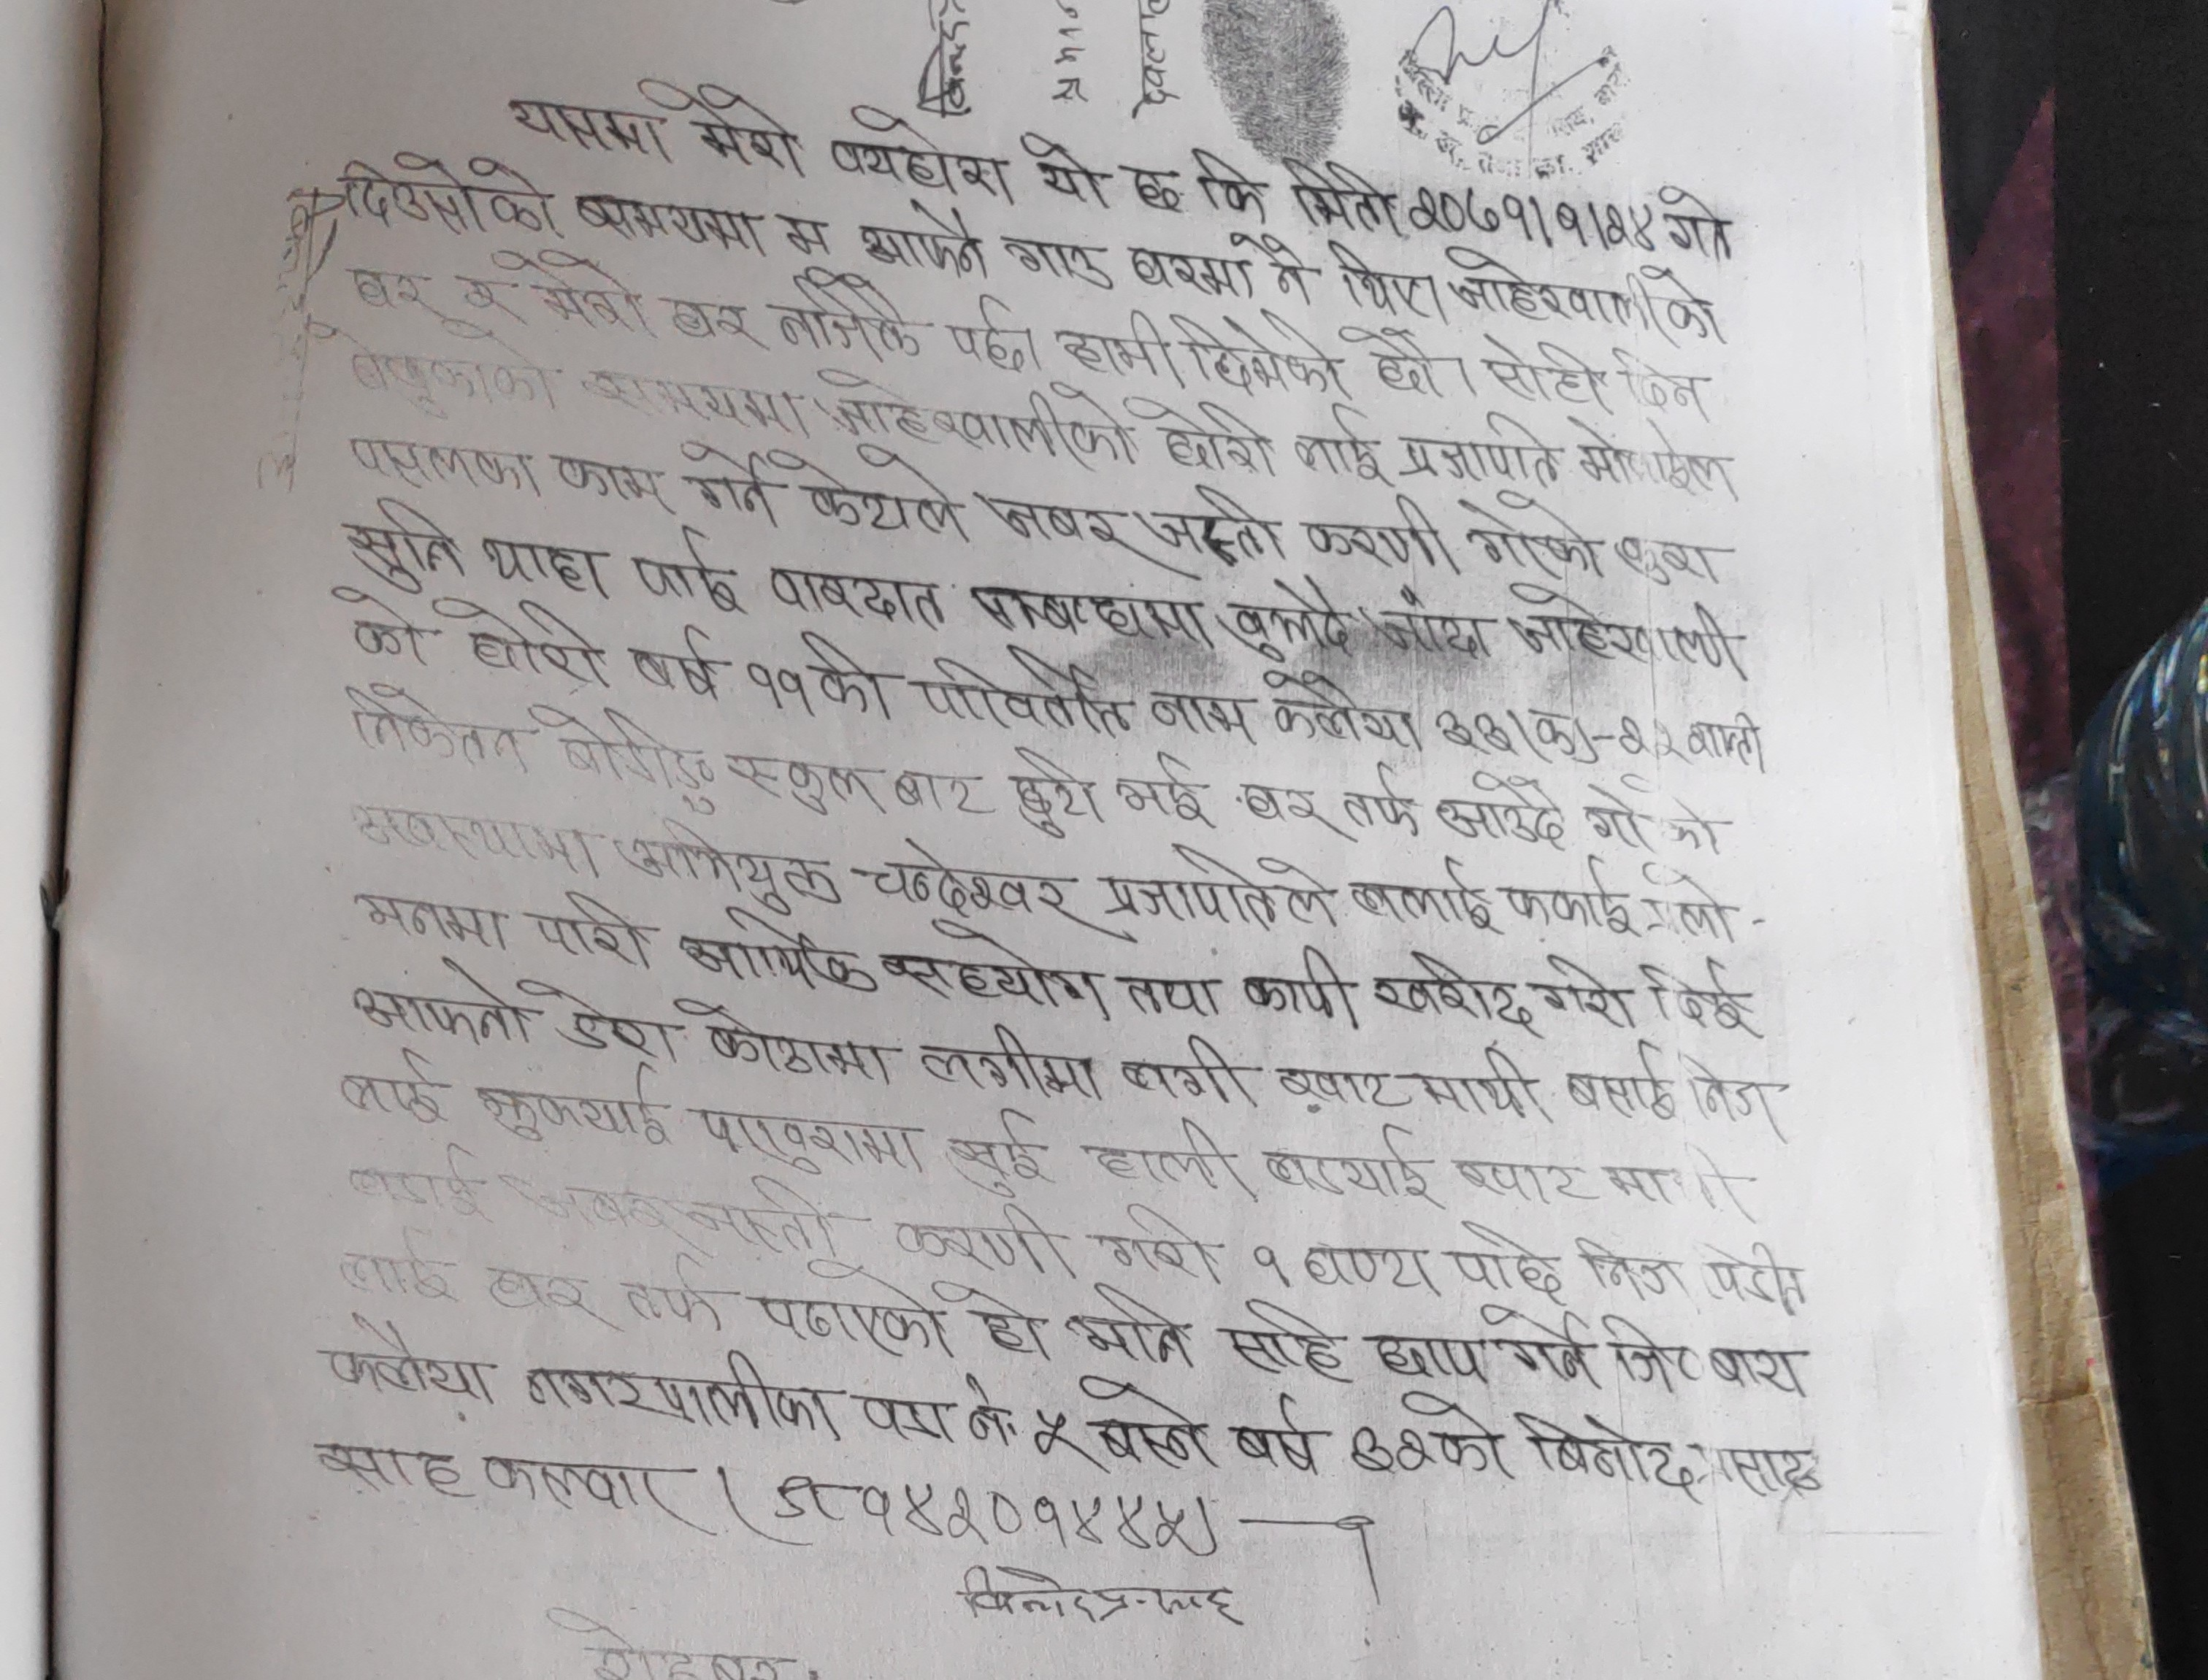text: (768, 1468, 1197, 1555), (519, 1343, 842, 1444), (812, 364, 1128, 462), (877, 918, 1105, 1015), (854, 831, 1084, 926), (1100, 844, 1340, 934), (524, 706, 724, 812), (348, 799, 597, 884), (621, 821, 842, 914), (1504, 582, 1742, 669), (1502, 858, 1742, 941), (907, 651, 1135, 736), (339, 148, 551, 236), (337, 679, 524, 776), (747, 1258, 943, 1350), (473, 1057, 676, 1145), (828, 106, 1008, 203), (681, 911, 879, 999), (1405, 184, 1657, 252), (1603, 1316, 1816, 1398), (318, 1315, 503, 1408), (575, 367, 814, 439), (1172, 305, 1352, 397), (1514, 1414, 1700, 1500), (969, 581, 1205, 648), (692, 1110, 928, 1177), (431, 596, 604, 686), (914, 1020, 1101, 1103), (349, 958, 521, 1048), (1562, 416, 1740, 499), (1447, 275, 1664, 342), (768, 266, 923, 356), (891, 1202, 1077, 1276), (1257, 1124, 1433, 1202), (1303, 491, 1461, 575), (1077, 1371, 1216, 1465), (524, 981, 685, 1062), (1121, 394, 1280, 475), (1080, 1117, 1246, 1195), (1216, 574, 1354, 667), (342, 431, 538, 496), (1370, 949, 1534, 1025), (1262, 669, 1421, 746), (762, 561, 946, 628), (1431, 764, 1571, 851), (1131, 482, 1290, 558), (568, 194, 768, 254), (482, 1458, 687, 1516), (1599, 1136, 1746, 1218), (342, 496, 469, 588), (701, 1024, 895, 1084), (1456, 492, 1599, 574), (1474, 332, 1608, 418), (341, 1140, 492, 1216), (1347, 859, 1491, 939), (503, 95, 664, 166), (1057, 1290, 1197, 1371), (687, 79, 800, 178), (1214, 1301, 1354, 1380), (944, 1108, 1064, 1200), (858, 198, 990, 281), (1401, 416, 1555, 487), (316, 1442, 473, 1511), (1239, 942, 1359, 1032), (725, 750, 881, 819), (1110, 1031, 1255, 1103), (1098, 1202, 1227, 1283), (528, 252, 655, 334), (531, 889, 653, 972), (1440, 1219, 1562, 1301), (1356, 588, 1495, 658), (1477, 1304, 1599, 1384), (630, 533, 750, 612), (1416, 1045, 1557, 1112), (353, 893, 510, 953), (1008, 745, 1108, 838), (1562, 1039, 1677, 1121), (676, 439, 771, 536), (1283, 157, 1394, 240), (801, 487, 964, 544), (1299, 1239, 1446, 1301), (342, 1050, 454, 1131), (1287, 401, 1391, 487), (1052, 312, 1175, 385), (625, 623, 732, 706), (1636, 956, 1751, 1034), (978, 491, 1126, 551), (1343, 319, 1449, 402), (800, 630, 888, 725), (1677, 1054, 1784, 1131), (485, 533, 612, 598), (1221, 1394, 1327, 1472), (1326, 240, 1430, 318), (946, 296, 1045, 376), (1003, 228, 1115, 296), (1115, 746, 1213, 826), (1536, 951, 1636, 1025), (1015, 131, 1112, 206), (1573, 1230, 1682, 1297), (1121, 238, 1246, 296), (890, 764, 995, 828), (1698, 1440, 1825, 1493), (1447, 1154, 1587, 1202), (1613, 346, 1705, 418), (552, 454, 665, 512), (1188, 148, 1278, 221), (339, 588, 427, 660), (1370, 1331, 1490, 1384), (1338, 762, 1423, 836), (1617, 533, 1730, 588), (1278, 1066, 1405, 1114), (1654, 185, 1733, 261), (1244, 228, 1318, 307), (1149, 686, 1251, 743), (852, 1394, 960, 1445), (669, 293, 757, 351), (1119, 972, 1225, 1020), (957, 1373, 1024, 1447), (1336, 1426, 1430, 1479), (1237, 784, 1327, 838), (348, 268, 445, 318), (1686, 709, 1763, 766), (1608, 713, 1679, 769), (1020, 1403, 1087, 1459), (1433, 706, 1511, 754), (745, 662, 812, 715), (969, 1311, 1045, 1354), (1128, 161, 1184, 215), (457, 277, 529, 319), (778, 205, 840, 254), (1438, 1429, 1498, 1479), (1246, 1242, 1299, 1286), (1532, 704, 1574, 757)
